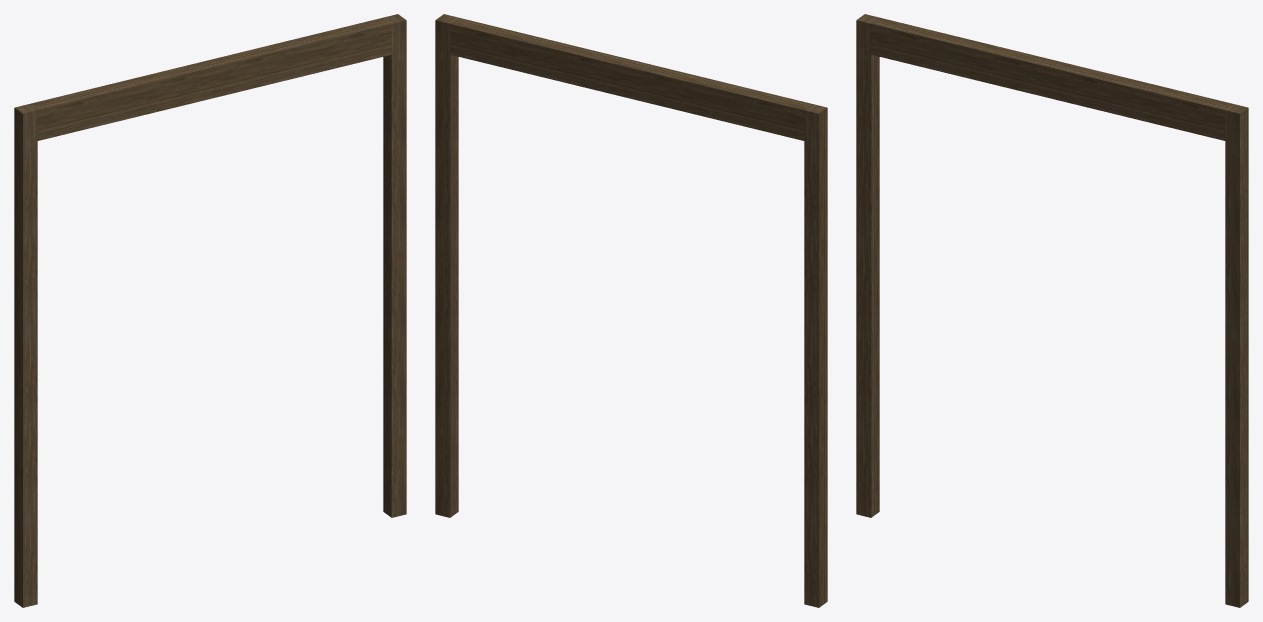
The model's file is es-flame_h2400-w1800_brownebony.fbx.
The picture shows the model from 3 angles, left to right: view 1: azimuth 30°, elevation 25°; view 2: azimuth 150°, elevation 25°; view 3: azimuth 330°, elevation 25°; orthographic projection.
Parts seen in each view (by area): view 1: es-flame_h2400-w1800_brownebony; view 2: es-flame_h2400-w1800_brownebony; view 3: es-flame_h2400-w1800_brownebony.
Part boxes in pixels (x1=…): es-flame_h2400-w1800_brownebony: x1=14, y1=14, x2=406, y2=607; es-flame_h2400-w1800_brownebony: x1=435, y1=14, x2=827, y2=607; es-flame_h2400-w1800_brownebony: x1=856, y1=14, x2=1248, y2=607.
Size of the model in its own units: 195 by 240 by 7.5.
1 material, 1 textured.
